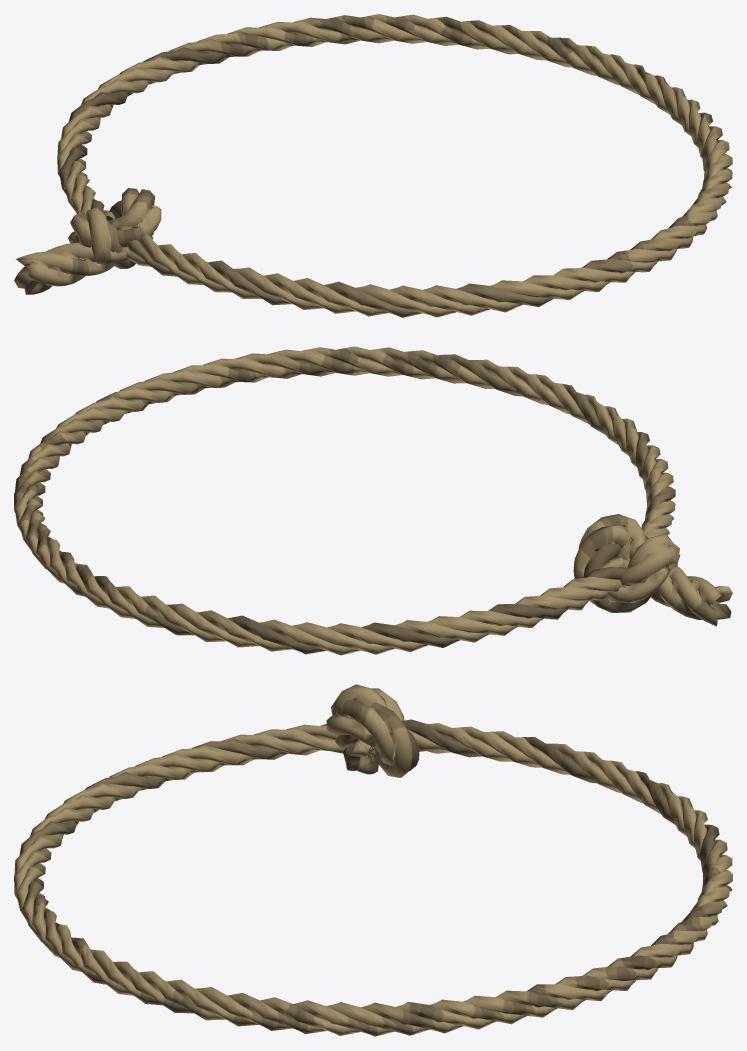
Rendered from rope tip flat .fbx.
The picture shows the model from 3 angles, top to bottom: view 1: azimuth 30°, elevation 25°; view 2: azimuth 150°, elevation 25°; view 3: azimuth 270°, elevation 25°; orthographic projection. The views are drawn at different scales.
Parts seen in each view (by area): view 1: FlatLasso, Knot; view 2: FlatLasso, Knot; view 3: FlatLasso, Knot.
Part boxes in pixels (bbox=[...]): FlatLasso: bbox=[57, 14, 732, 317]; Knot: bbox=[14, 188, 161, 294]; FlatLasso: bbox=[14, 346, 675, 655]; Knot: bbox=[573, 514, 732, 626]; FlatLasso: bbox=[14, 719, 732, 1036]; Knot: bbox=[326, 684, 419, 777].
Bounding box in the file's own units: 468 × 524 × 58.89.
